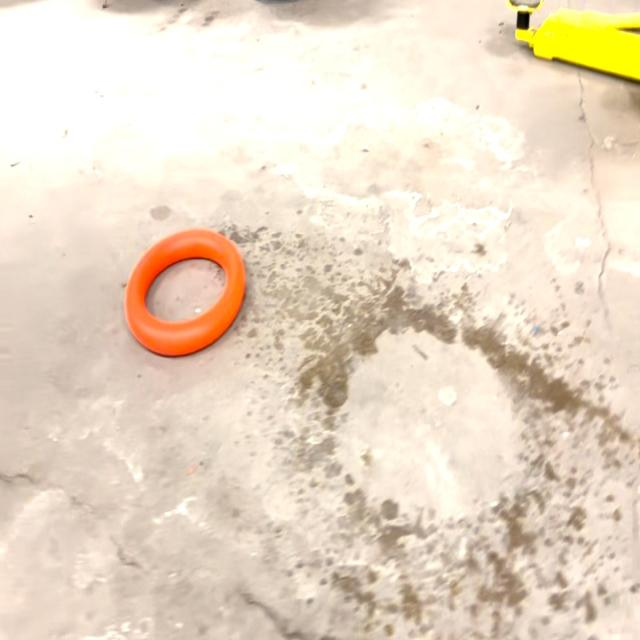note: (126, 231, 245, 358)
